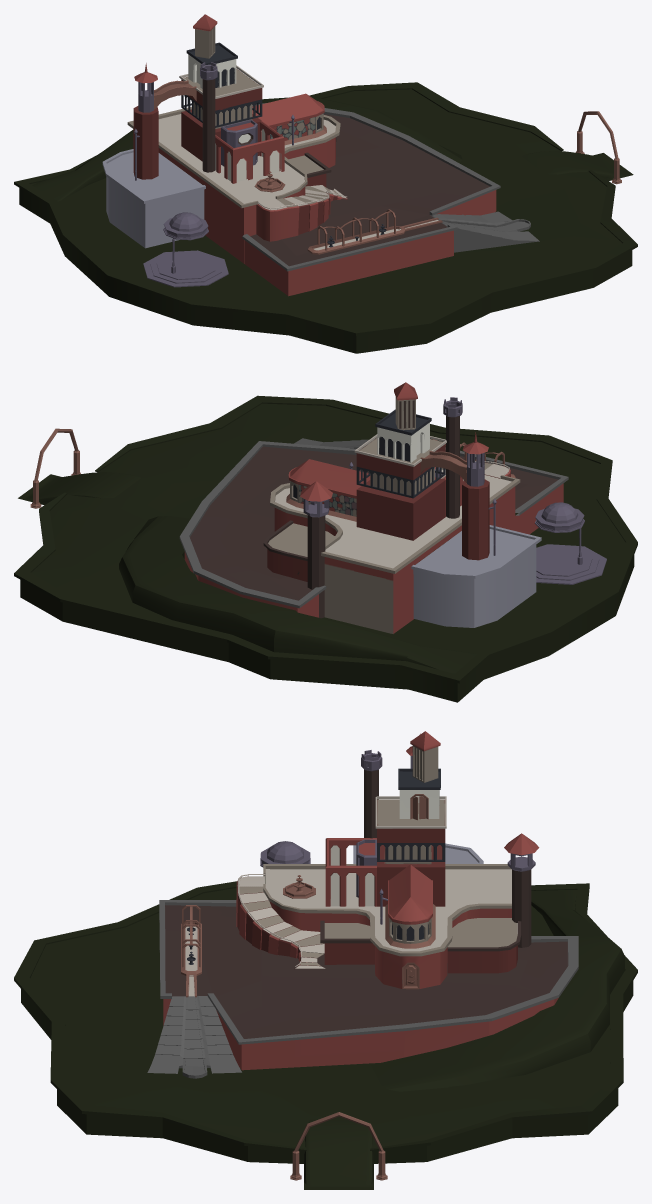
The model's file is castillo001.fbx.
The picture shows the model from 3 angles, top to bottom: view 1: azimuth 30°, elevation 25°; view 2: azimuth 150°, elevation 25°; view 3: azimuth 270°, elevation 25°; orthographic projection. The views are drawn at different scales.
Parts seen in each view (by area): view 1: bajo_piso_UVs, Suelo_Top_UVs, Suelo_Alto_UVs, alto_piso_02_UVs, Rampa_Top_UVs, escaleras_altas_UVs, castillo1_UVs, escaleras_medias_UVs, Mausoleo_Suelo_UVs, entrada_UVs, capilla_UVs, torre_atras_UVs (+11 smaller); view 2: bajo_piso_UVs, Suelo_Top_UVs, Rampa_Top_UVs, Suelo_Alto_UVs, alto_piso_02_UVs, castillo1_UVs, torre_atras_UVs, capilla_UVs, Mausoleo_Suelo_UVs, torre_Cono_UVs, Rampa_Principal_UVs, alto_piso_UVs (+7 smaller); view 3: bajo_piso_UVs, Suelo_Top_UVs, Rampa_Top_UVs, Suelo_Alto_UVs, escaleras_medias_UVs, castillo1_UVs, Rampa_Principal_UVs, escaleras_altas_UVs, alto_piso_UVs, capilla_UVs, entrada_UVs, torre_Cono_UVs (+9 smaller).
Boxes of the visible parts, x1,y1,x2,y2 form: bajo_piso_UVs: (14,82,637,353); Suelo_Top_UVs: (242,103,500,296); Suelo_Alto_UVs: (127,106,340,263); alto_piso_02_UVs: (102,149,205,248); Rampa_Top_UVs: (32,96,462,201); escaleras_altas_UVs: (256,185,347,241); castillo1_UVs: (179,65,263,161); escaleras_medias_UVs: (430,211,539,252); Mausoleo_Suelo_UVs: (143,250,228,287); entrada_UVs: (215,120,284,183); capilla_UVs: (252,93,326,145); torre_atras_UVs: (133,63,158,179); bajo_piso_UVs: (14,395,637,702); Suelo_Top_UVs: (179,437,568,617); Rampa_Top_UVs: (119,516,476,673); Suelo_Alto_UVs: (270,468,520,633); alto_piso_02_UVs: (411,525,541,627); castillo1_UVs: (354,434,446,540); torre_atras_UVs: (462,432,489,560); capilla_UVs: (286,459,370,521); Mausoleo_Suelo_UVs: (536,544,606,584); torre_Cono_UVs: (300,481,332,618); Rampa_Principal_UVs: (18,472,140,505); alto_piso_UVs: (263,520,334,581); bajo_piso_UVs: (14,877,637,1163); Suelo_Top_UVs: (159,900,578,1070); Rampa_Top_UVs: (371,890,624,1091); Suelo_Alto_UVs: (263,864,511,988); escaleras_medias_UVs: (147,996,241,1078); castillo1_UVs: (375,796,446,906); Rampa_Principal_UVs: (304,1119,373,1189); escaleras_altas_UVs: (236,874,325,968); alto_piso_UVs: (447,918,521,973); capilla_UVs: (385,864,435,948); entrada_UVs: (325,838,376,906); torre_Cono_UVs: (504,833,539,947).
Size of the model in its own units: 27345 by 10723 by 24531.
